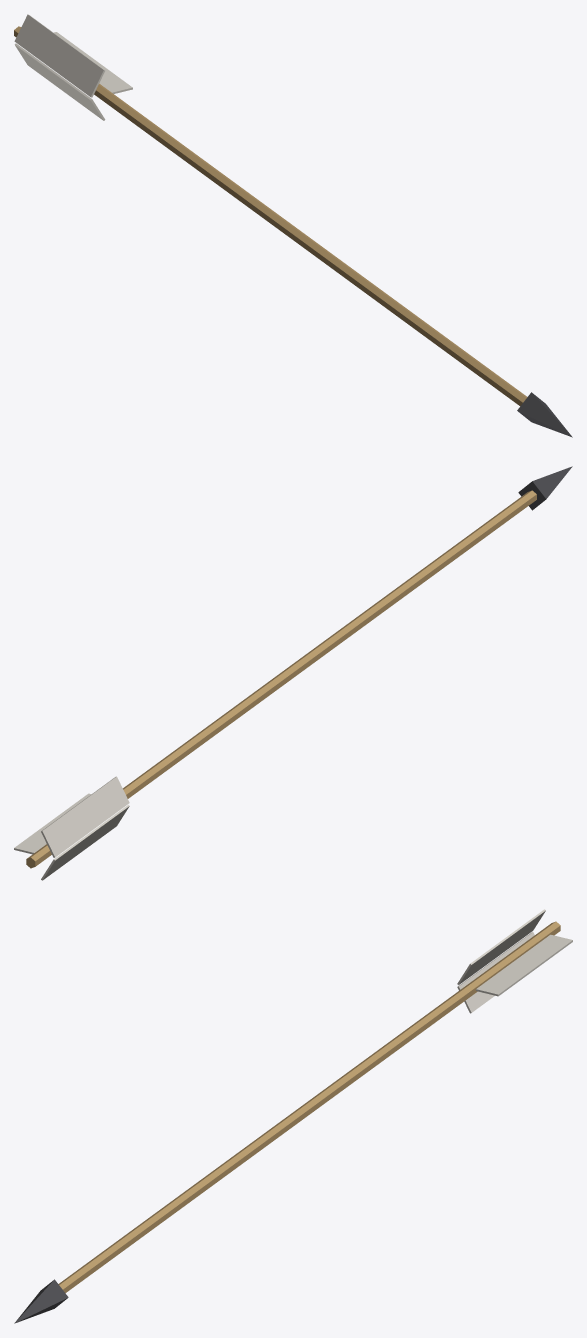
The model's file is arrow.glb.
The picture shows the model from 3 angles, top to bottom: view 1: azimuth 30°, elevation 25°; view 2: azimuth 150°, elevation 25°; view 3: azimuth 330°, elevation 25°; orthographic projection. The views are drawn at different scales.
Visible parts, largest first — view 1: arrow_wood, arrow_cloth, arrow_iron; view 2: arrow_wood, arrow_cloth, arrow_iron; view 3: arrow_wood, arrow_cloth, arrow_iron.
Part boxes in pixels (left/top/right/bottom): arrow_wood: left=14, top=26, right=527, bottom=406; arrow_cloth: left=14, top=14, right=132, bottom=120; arrow_iron: left=517, top=392, right=572, bottom=437; arrow_wood: left=26, top=490, right=536, bottom=868; arrow_cloth: left=14, top=776, right=129, bottom=880; arrow_iron: left=518, top=466, right=572, bottom=510; arrow_wood: left=58, top=921, right=560, bottom=1292; arrow_cloth: left=457, top=909, right=572, bottom=1013; arrow_iron: left=14, top=1279, right=68, bottom=1323.
Bounding box in the file's own units: 0.0351 × 0.0406 × 0.8.
